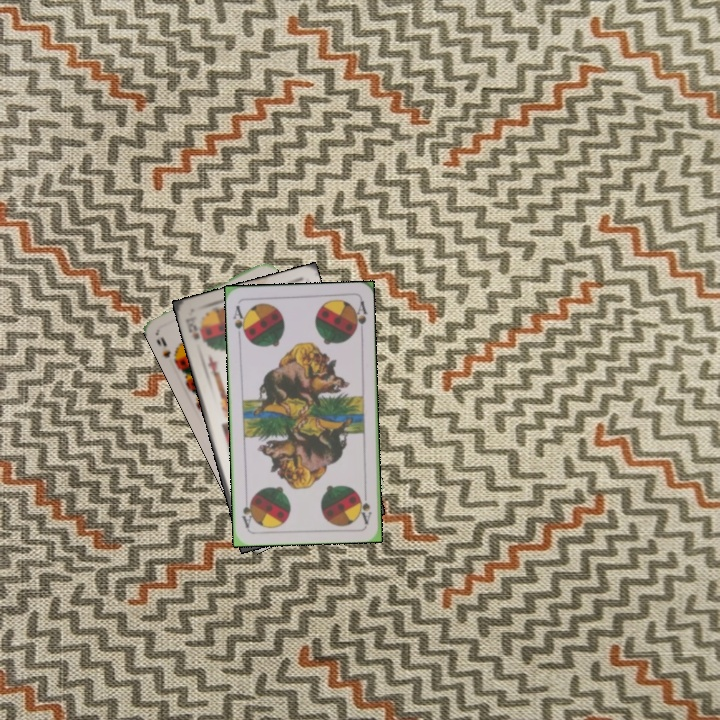S9: (156, 333, 180, 366)
SA: (229, 301, 249, 341), (356, 485, 374, 526)
SK: (184, 313, 202, 343)
